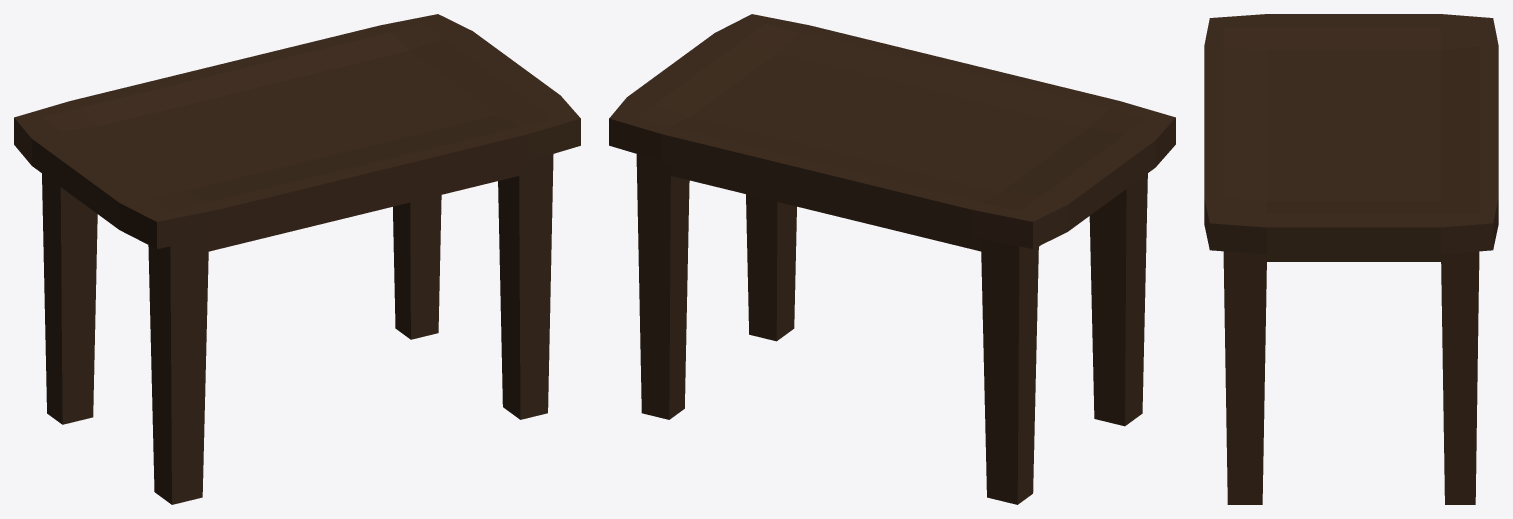
File: Side Table.fbx
3 renders of one model, left to right at view 1: azimuth 30°, elevation 25°; view 2: azimuth 150°, elevation 25°; view 3: azimuth 270°, elevation 25°, orthographic.
Visible parts, largest first — view 1: Cube; view 2: Cube; view 3: Cube.
Boxes of the visible parts, x1=… form: Cube: x1=14, y1=14, x2=580, y2=504; Cube: x1=609, y1=14, x2=1175, y2=504; Cube: x1=1204, y1=14, x2=1498, y2=504.
Bounding box in the file's own units: 276 × 177 × 161.
